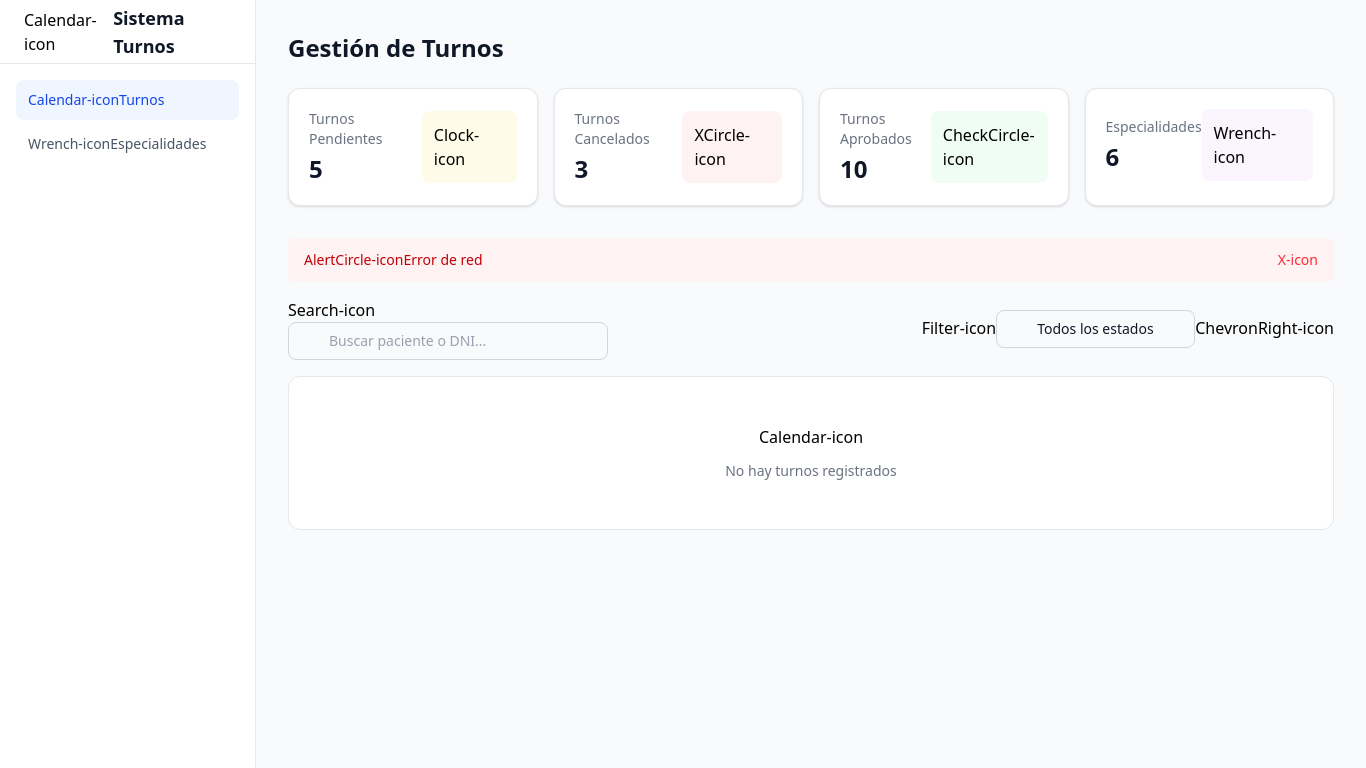
Test: AdminDashboard - ShiftsManagement › dismisses error banner on close
Check: the text "Error de red" is shown, box 404,250 -> 483,269
Click the button "X-icon": point(1298, 260) 1278,250 -> 1318,270
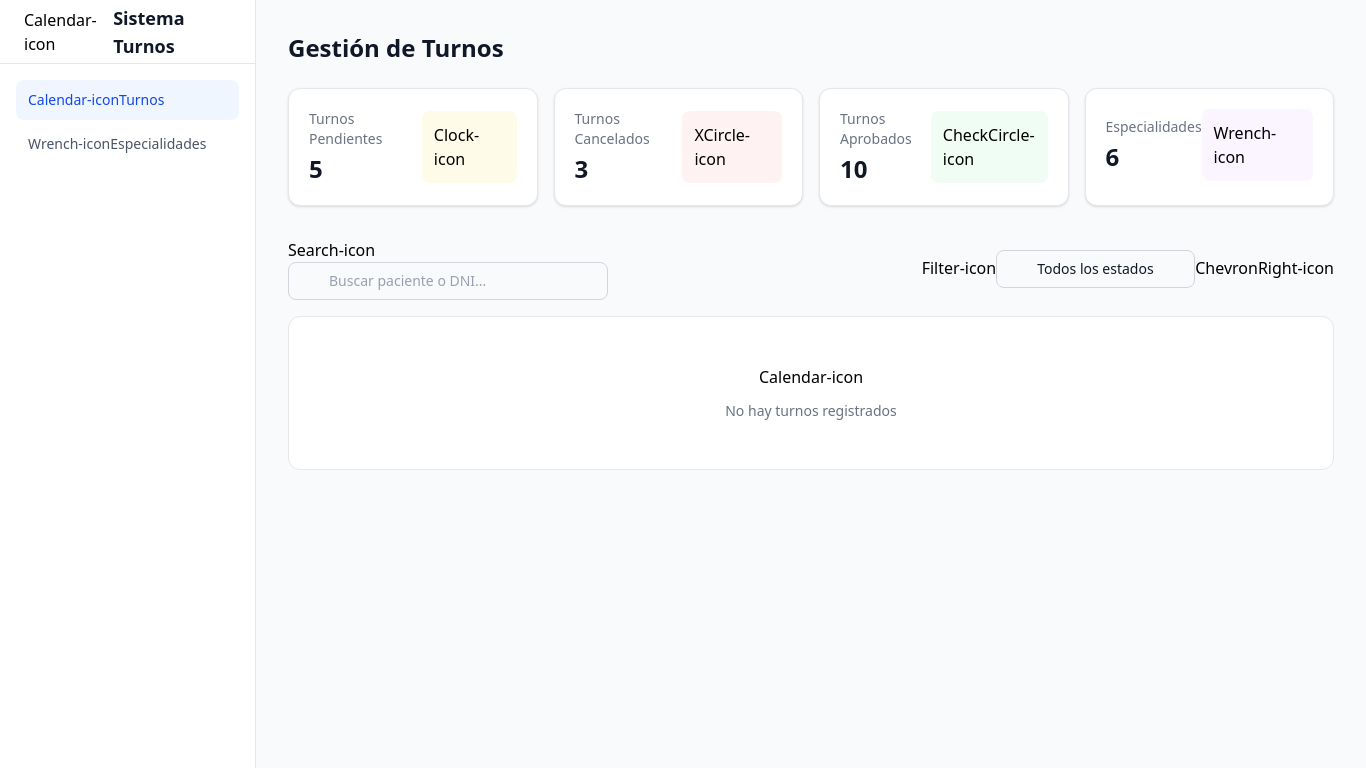
Check: the text "Error de red" is gone
